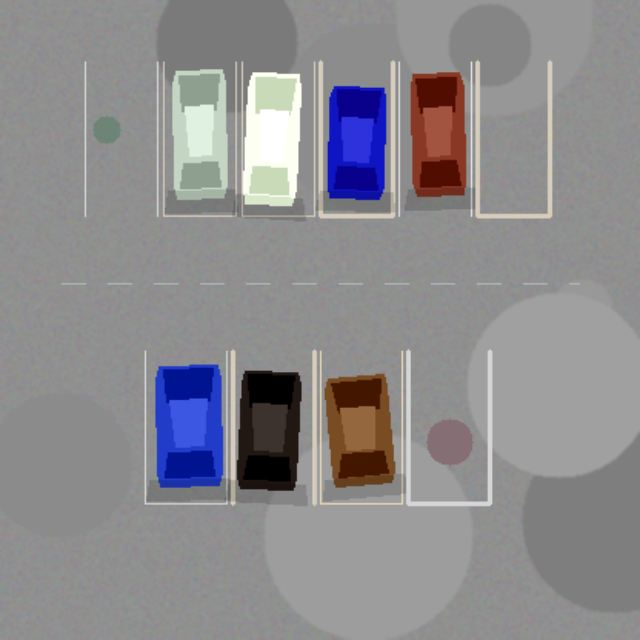space-empty: (408, 351, 489, 503), (85, 62, 157, 215), (477, 62, 549, 215)
space-occupied: (232, 351, 314, 503), (320, 351, 402, 503), (145, 351, 226, 503), (398, 62, 471, 215), (163, 62, 235, 215), (242, 62, 314, 215), (320, 62, 392, 215)
